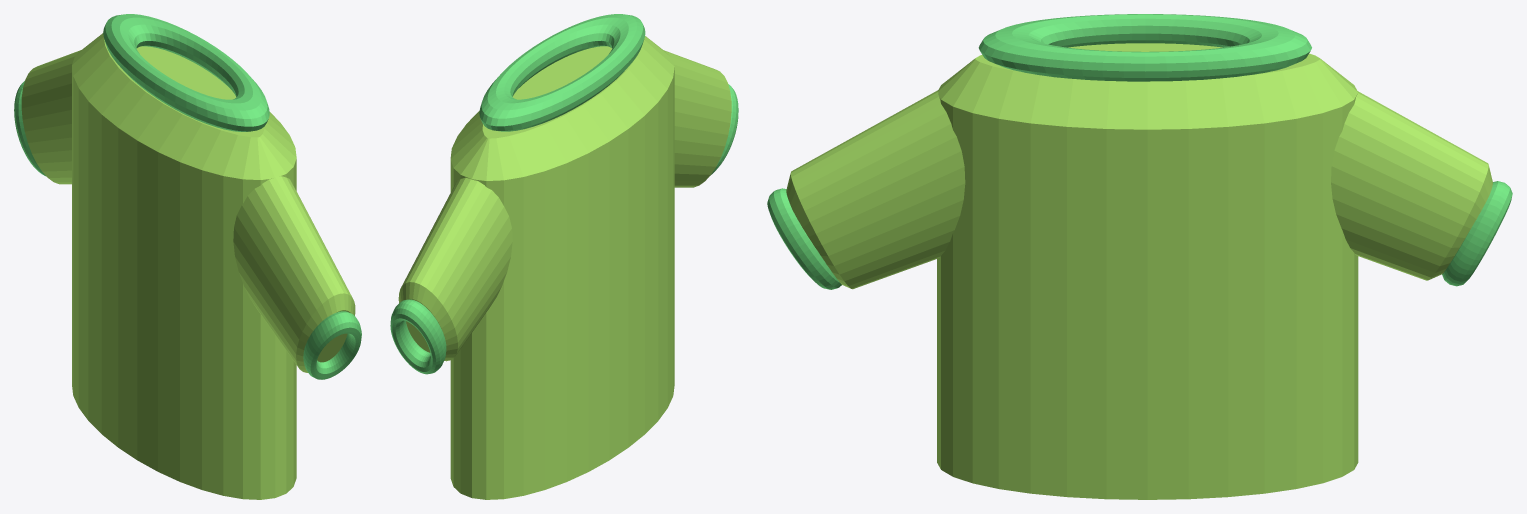
The model's file is GreenTshirt.fbx.
3 views of the same model, side by side, from view 1: azimuth 30°, elevation 25°; view 2: azimuth 150°, elevation 25°; view 3: azimuth 270°, elevation 25° (orthographic). The views are drawn at different scales.
Parts seen in each view (by area): view 1: Cylinder, Cylinder.002, Torus, Cylinder.001, Torus.002, Torus.001; view 2: Cylinder, Cylinder.001, Torus, Cylinder.002, Torus.001, Torus.002; view 3: Cylinder, Cylinder.002, Cylinder.001, Torus, Torus.001, Torus.002.
Part boxes in pixels (x1,y1,x2,y2): Cylinder: (72, 33, 296, 499); Cylinder.002: (233, 176, 355, 372); Torus: (103, 14, 269, 131); Cylinder.001: (21, 50, 81, 184); Torus.002: (303, 311, 361, 379); Torus.001: (14, 81, 46, 176); Cylinder: (450, 36, 674, 499); Cylinder.001: (398, 177, 512, 361); Torus: (479, 14, 645, 131); Cylinder.002: (664, 50, 731, 187); Torus.001: (390, 299, 446, 374); Torus.002: (710, 84, 738, 175); Cylinder: (937, 43, 1358, 499); Cylinder.002: (786, 90, 965, 289); Cylinder.001: (1331, 91, 1492, 280); Torus: (978, 14, 1311, 81); Torus.001: (1442, 181, 1512, 286); Torus.002: (767, 188, 841, 289).
Size of the model in its own units: 187 by 502 by 788.
